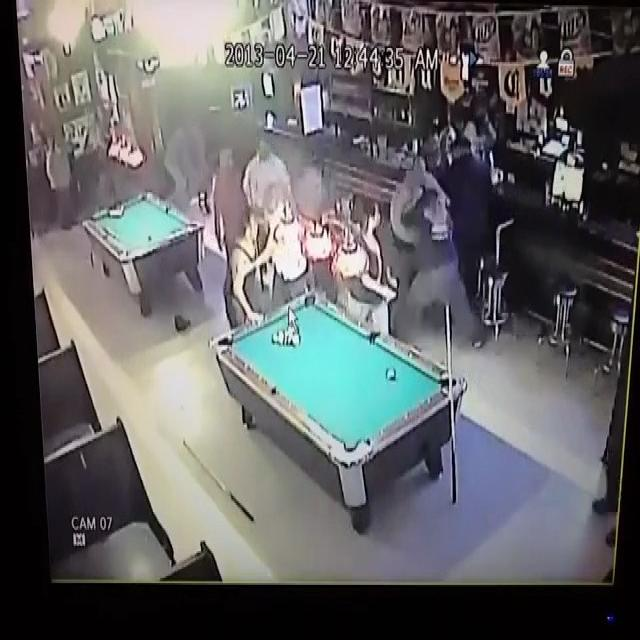fight: (368, 131, 482, 352)
